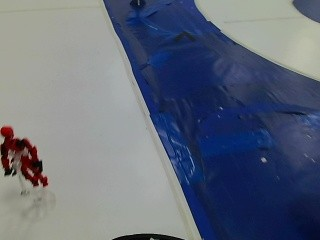school: (0, 122, 51, 186)
